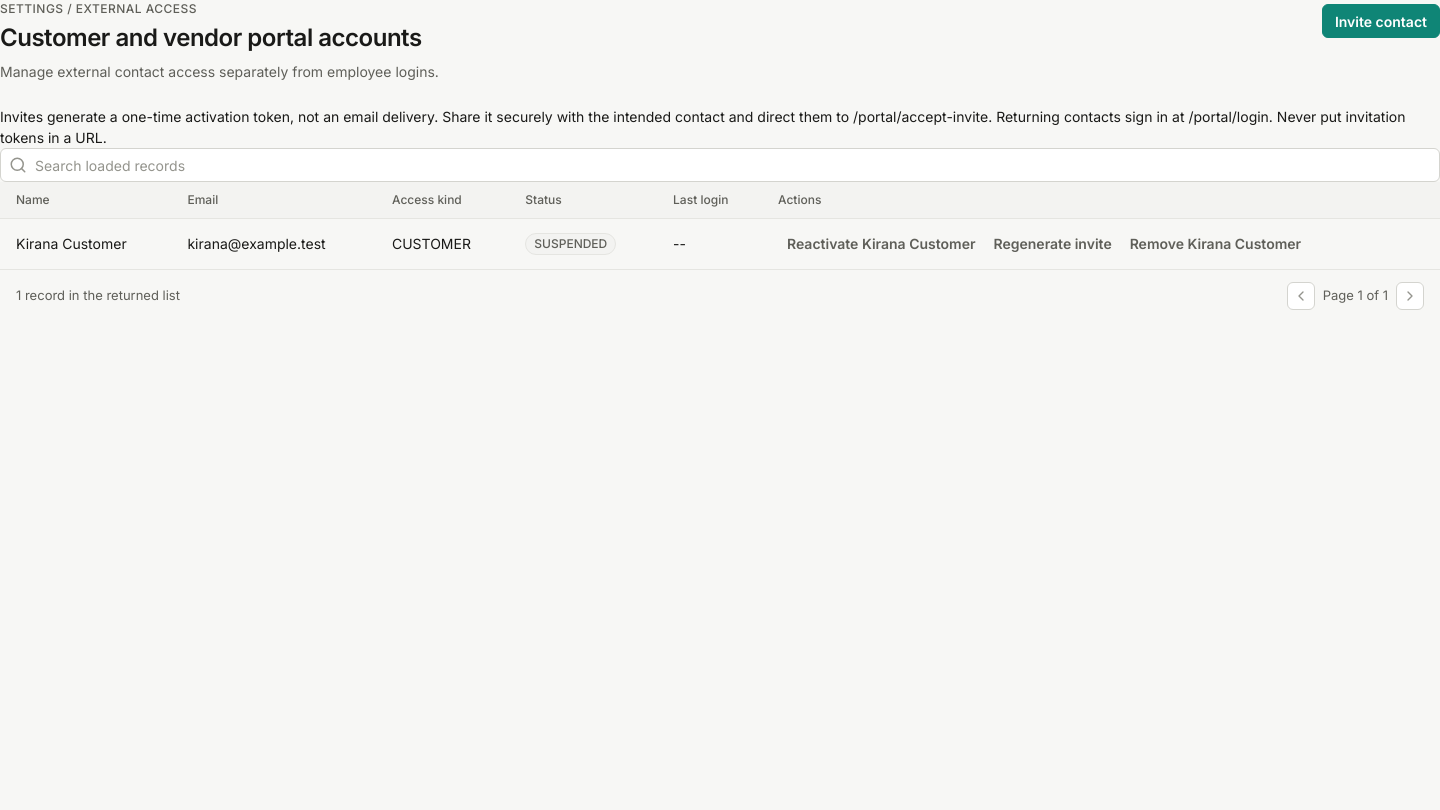
it: shows reactivation rejection and does not pretend an unaccepted invite is active
This screenshot has width=1440, height=810.
Click the button "Reactivate Kirana Customer" at (881,244), box top-left (778, 227), bottom-right (984, 261)
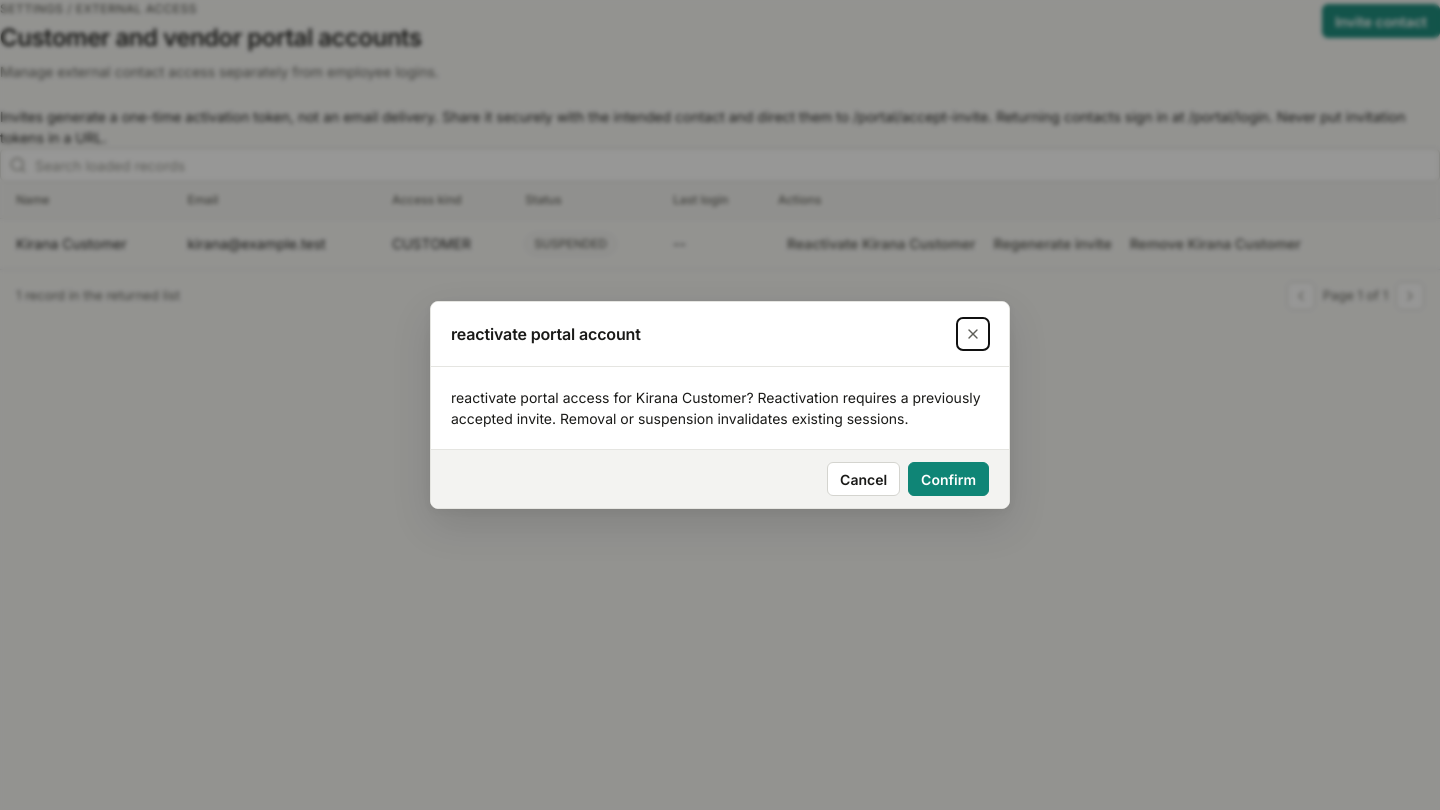
Click the button "Confirm" at (949,479), box top-left (908, 462), bottom-right (989, 496)
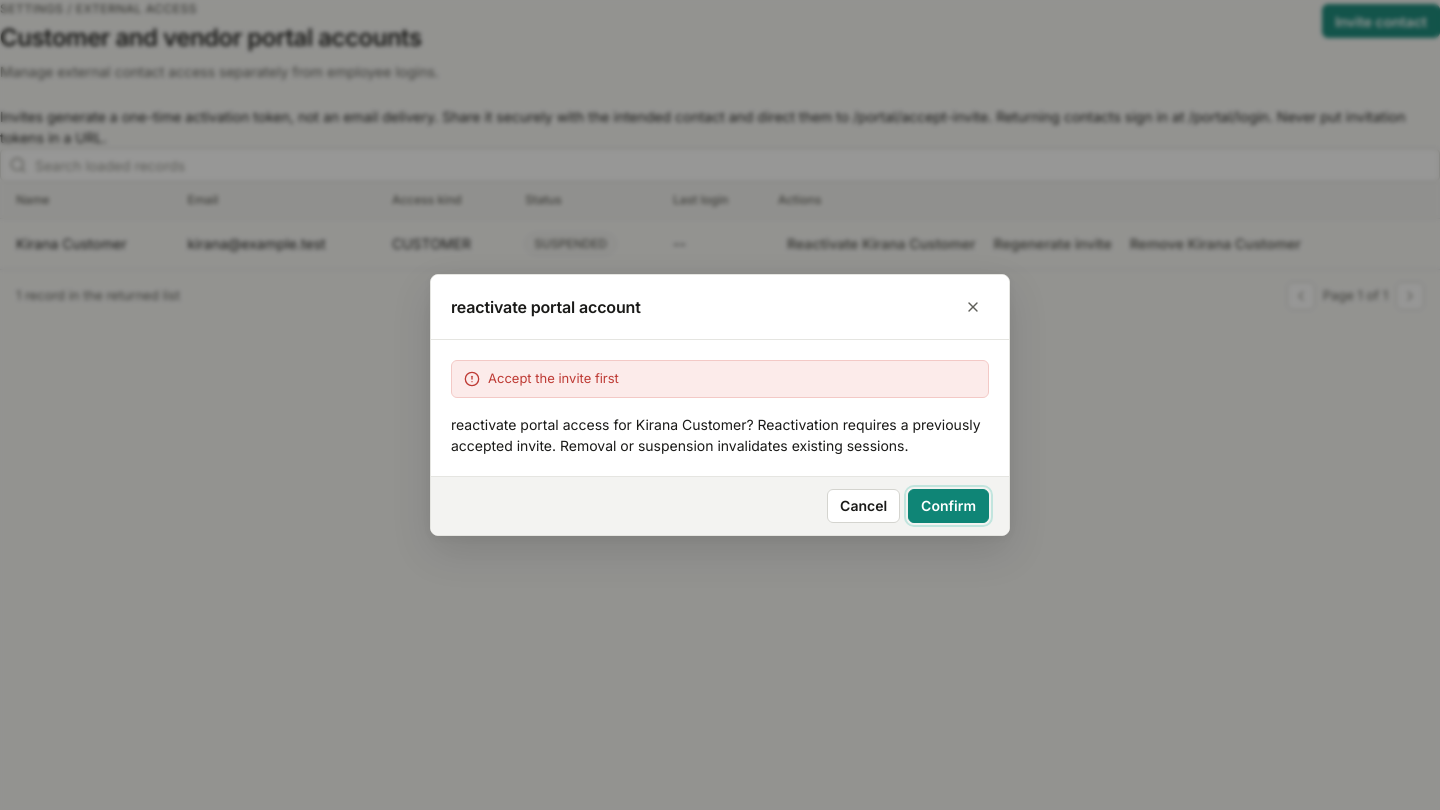
Expected: the dialog is shown, top-left (430, 274), bottom-right (1010, 536)
Expected: the text "Accept the invite first" is shown, top-left (488, 369), bottom-right (619, 389)
